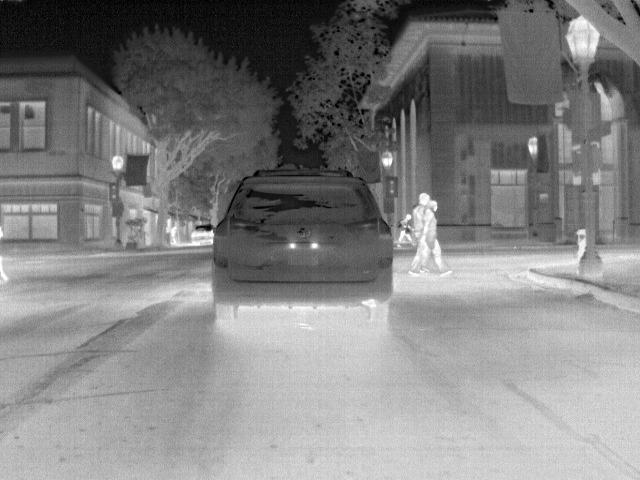car: (210, 169, 397, 322), (188, 225, 214, 246)
person: (408, 200, 454, 276), (412, 190, 429, 234), (395, 214, 416, 246)
